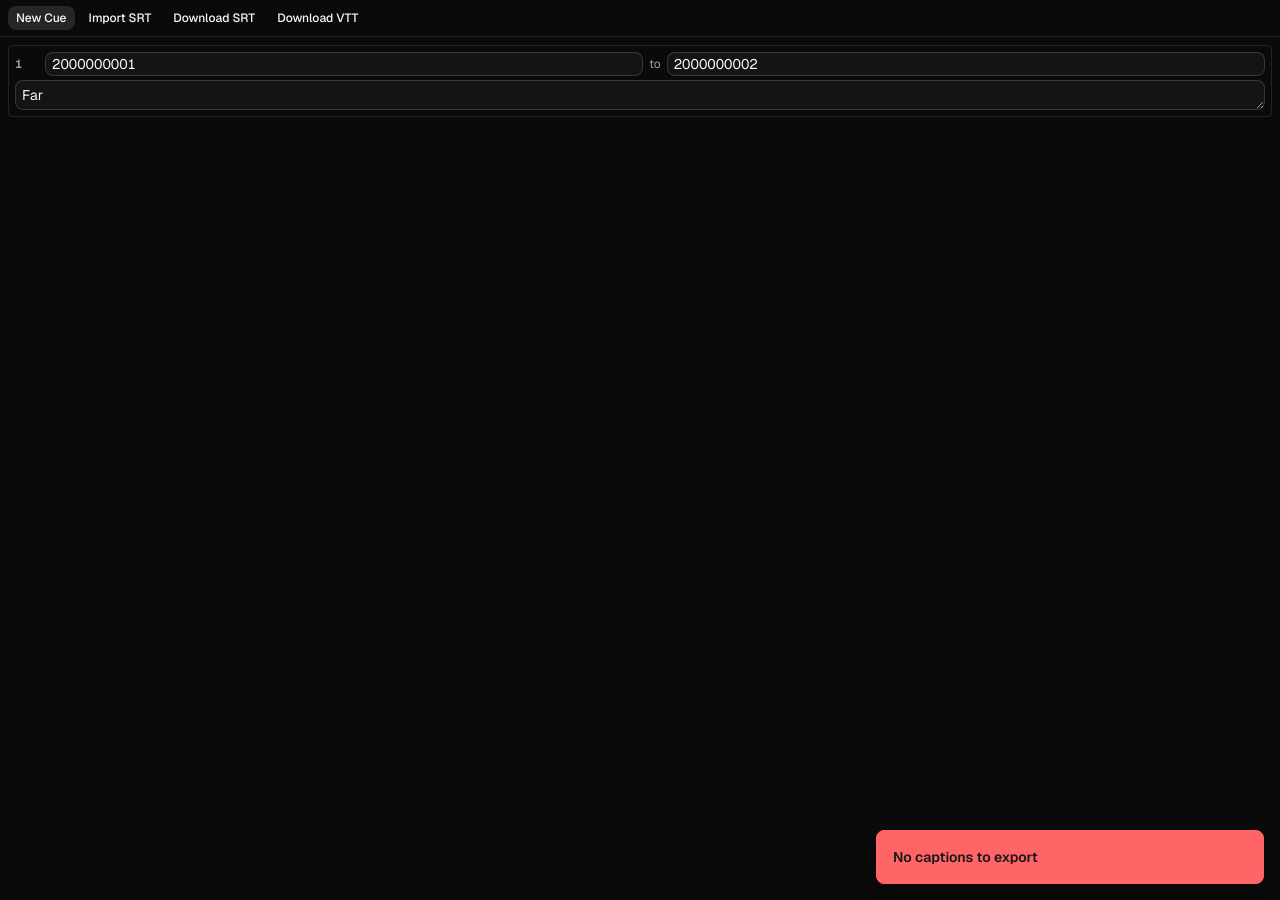
it: CaptionsPanel (0.8.5) › Download VTT with an out-of-range cue shows the range refusal
Click the button with test id "captions-download-vtt": (318, 18) left=269, top=6, right=366, bottom=30
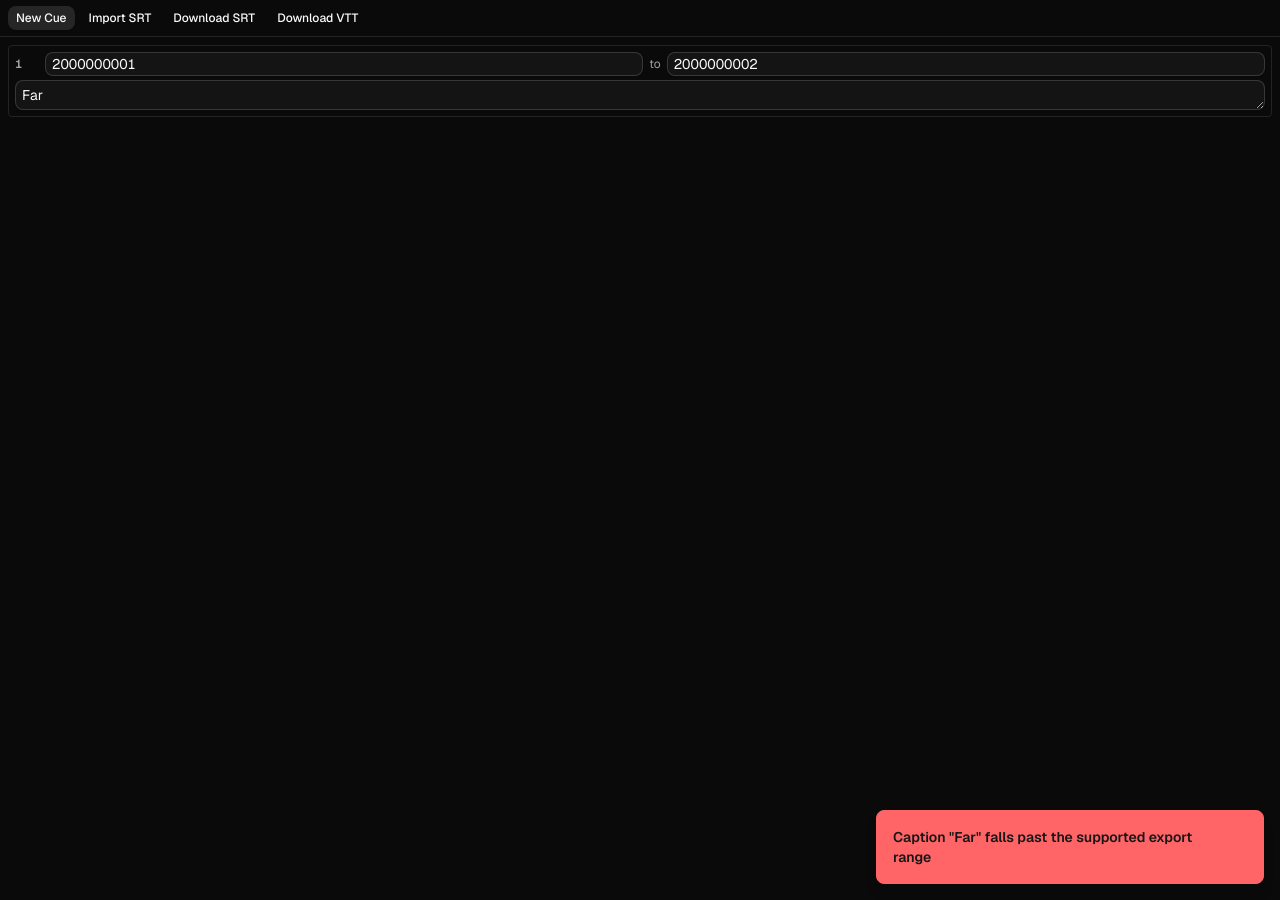
Now the text "Caption \"Far\" falls past the supported export range" is shown, box left=893, top=827, right=1231, bottom=867
